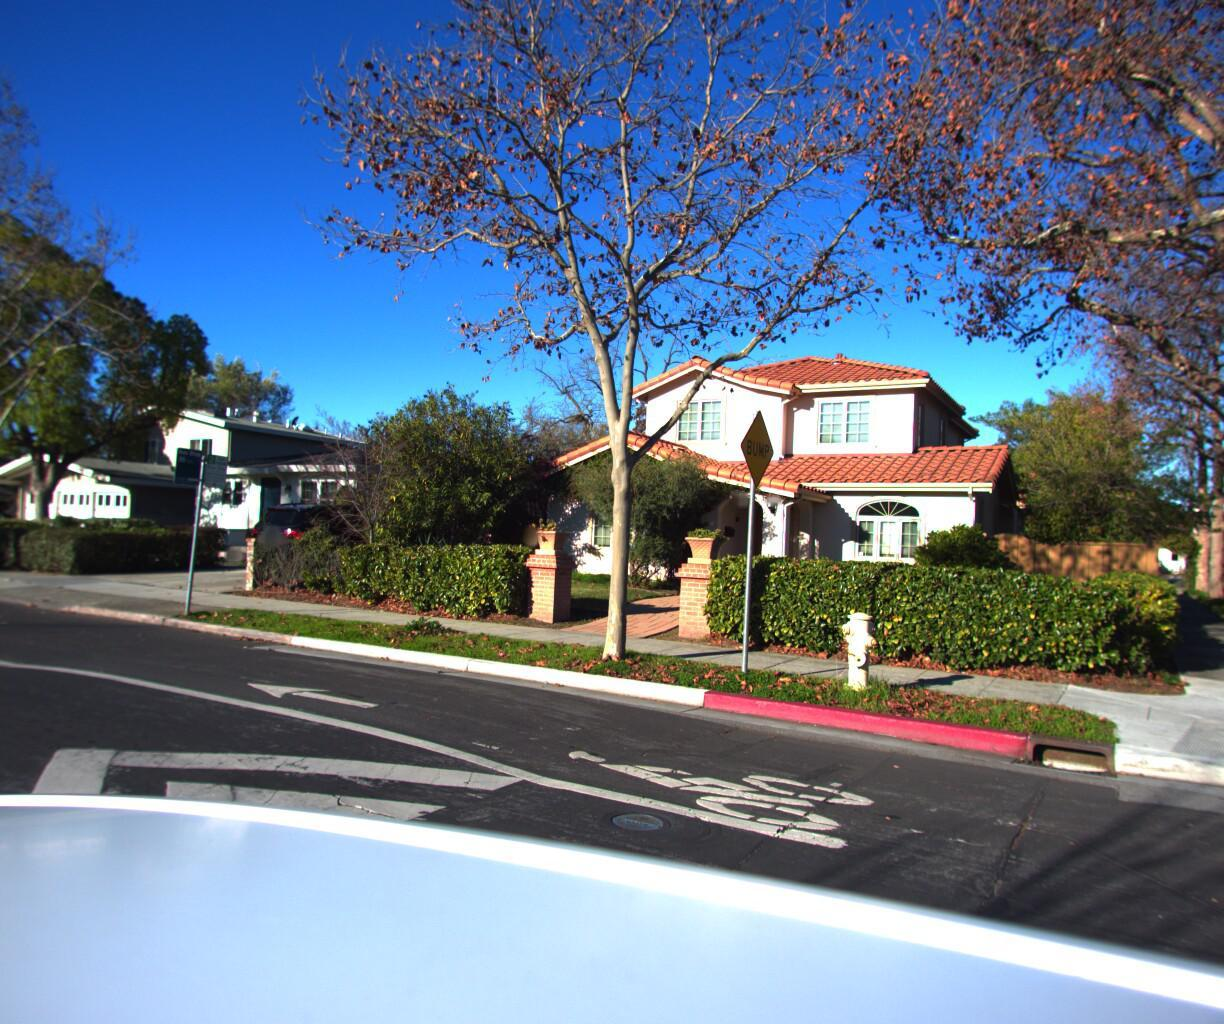car: (233, 501, 432, 589), (0, 509, 51, 560), (0, 502, 17, 556)
